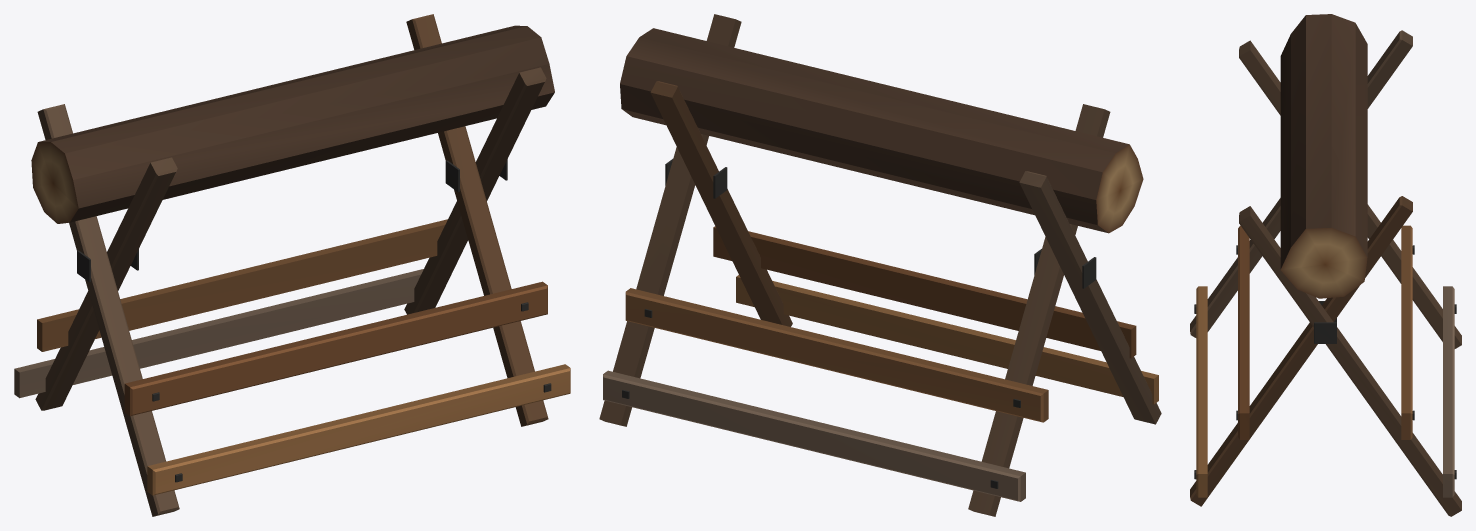
Rendered from sawhorse_01.glb.
3 views of the same model, side by side, from view 1: azimuth 30°, elevation 25°; view 2: azimuth 150°, elevation 25°; view 3: azimuth 270°, elevation 25° (orthographic). The views are drawn at different scales.
Visible parts, largest first — view 1: sawhorse_01_wood, sawhorse_01_metal; view 2: sawhorse_01_wood, sawhorse_01_metal; view 3: sawhorse_01_wood, sawhorse_01_metal.
Boxes of the visible parts, x1,y1,x2,y2 form: sawhorse_01_wood: [14, 14, 570, 516]; sawhorse_01_metal: [77, 159, 551, 482]; sawhorse_01_wood: [599, 14, 1161, 516]; sawhorse_01_metal: [622, 159, 1096, 488]; sawhorse_01_wood: [1190, 14, 1461, 516]; sawhorse_01_metal: [1194, 245, 1456, 479].
Bounding box in the file's own units: 1.56 × 1.03 × 0.8326.
